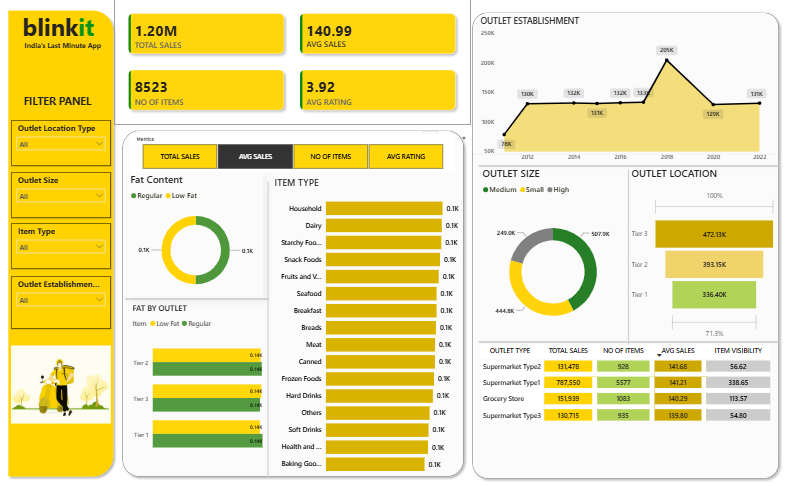

The page's visual inventory and layout, read from the dashboard file:
{"tool":"powerbi","page":{"name":"Page 1","canvas":[1600,995],"ordinal":0},"visuals":[{"type":"shape","box":[10.1,14.1,230.1,960.7],"z":0},{"type":"textbox","box":[0,17.9,240.3,91],"z":1000},{"type":"textbox","box":[0,79.1,258.2,57.5],"z":2000},{"type":"cardVisual","fields":{"Data":["BlinkIT Grocery Data.Total Sales","BlinkIT Grocery Data.Avg Sales","BlinkIT Grocery Data.No of Items","BlinkIT Grocery Data.Avg Rating"]},"box":[232.6,0,722,254.8],"z":3000},{"type":"shape","box":[240.2,256.3,708.4,718.5],"z":4000},{"type":"donutChart","title":"Fat Content","fields":{"Y":["BlinkIT Grocery Data.AVG SALES"],"Category":["BlinkIT Grocery Data.Item Fat Content"]},"box":[261.6,349.5,273.7,257.6],"z":5000},{"type":"slicer","fields":{"Values":["Metrics.Metrics"]},"box":[264.9,273,657.3,76.8],"z":6000},{"type":"clusteredBarChart","title":"FAT BY OUTLET","fields":{"Y":["BlinkIT Grocery Data.AVG SALES"],"Category":["BlinkIT Grocery Data.Outlet Location Type"],"Series":["BlinkIT Grocery Data.Item Fat Content"]},"box":[264.9,614.8,273,329.6],"z":7000},{"type":"shape","box":[948.5,289.2,637,48.5],"z":8000},{"type":"shape","box":[518.6,362.9,52.9,611.4],"z":9000},{"type":"barChart","title":"ITEM TYPE","fields":{"Y":["BlinkIT Grocery Data.AVG SALES"],"Category":["BlinkIT Grocery Data.Item Type"]},"box":[552.9,358.6,382.9,615.7],"z":10000},{"type":"shape","box":[948.3,18.4,637.9,960.9],"z":11000},{"type":"lineChart","title":"OUTLET ESTABLISHMENT","fields":{"Category":["BlinkIT Grocery Data.Outlet Establishment Year"],"Y":["BlinkIT Grocery Data.TOTAL SALES"]},"box":[968.7,32.4,588.5,305.4],"z":12000},{"type":"shape","box":[246.7,582.4,305.4,48.5],"z":13000},{"type":"shape","box":[962.6,313.5,622.9,48.5],"z":14000},{"type":"donutChart","title":"OUTLET SIZE","fields":{"Y":["BlinkIT Grocery Data.TOTAL SALES"],"Category":["BlinkIT Grocery Data.Outlet Size"]},"box":[972.8,337.7,295.3,370.1],"z":15000},{"type":"shape","box":[1245.8,337.7,54.6,370.1],"z":16000},{"type":"funnel","title":"OUTLET LOCATION","fields":{"Y":["Sum(BlinkIT Grocery Data.Sales)"],"Category":["BlinkIT Grocery Data.Outlet Location Type"]},"box":[1274.1,337.7,301.3,370.1],"z":17000},{"type":"shape","box":[962.6,669.4,317.5,48.5],"z":18000},{"type":"shape","box":[1266,669.4,319.5,48.5],"z":19000},{"type":"pivotTable","fields":{"Rows":["BlinkIT Grocery Data.Outlet Type"],"Values":["BlinkIT Grocery Data.TOTAL SALES","BlinkIT Grocery Data.NO OF ITEMS","BlinkIT Grocery Data.AVG SALES","Sum(BlinkIT Grocery Data.Item Visibility)"]},"box":[968.7,693.7,596.6,250.8],"z":20000},{"type":"slicer","fields":{"Values":["BlinkIT Grocery Data.Outlet Location Type"]},"box":[24.3,244.7,202.2,93],"z":21000},{"type":"slicer","fields":{"Values":["BlinkIT Grocery Data.Outlet Size"]},"box":[24.3,349.9,202.2,93],"z":22000},{"type":"slicer","fields":{"Values":["BlinkIT Grocery Data.Item Type"]},"box":[24.3,453,202.2,93],"z":23000},{"type":"textbox","box":[10.1,186.1,216.4,58.6],"z":24000},{"type":"image","box":[24.3,691.6,202.2,175.9],"z":25000},{"type":"slicer","fields":{"Values":["BlinkIT Grocery Data.Outlet Establishment Year"]},"box":[24.3,560.2,202.2,107.2],"z":25001}]}

Visuals, with their boxes in screenshot pixels (x1, y1, x2, y2), scaled from the page's 1600x995 canvas onto the 788x486 screenshot:
shape: box(5, 7, 118, 476)
textbox: box(0, 9, 118, 53)
textbox: box(0, 39, 127, 67)
cardVisual - BlinkIT Grocery Data.Total Sales x BlinkIT Grocery Data.Avg Sales: box(115, 0, 470, 124)
shape: box(118, 125, 467, 476)
"Fat Content" donutChart: box(129, 171, 264, 297)
slicer - Metrics.Metrics: box(130, 133, 454, 171)
"FAT BY OUTLET" clusteredBarChart: box(130, 300, 265, 461)
shape: box(467, 141, 781, 165)
shape: box(255, 177, 281, 476)
"ITEM TYPE" barChart: box(272, 175, 461, 476)
shape: box(467, 9, 781, 478)
"OUTLET ESTABLISHMENT" lineChart: box(477, 16, 767, 165)
shape: box(121, 284, 272, 308)
shape: box(474, 153, 781, 177)
"OUTLET SIZE" donutChart: box(479, 165, 625, 346)
shape: box(614, 165, 640, 346)
"OUTLET LOCATION" funnel: box(627, 165, 776, 346)
shape: box(474, 327, 630, 351)
shape: box(624, 327, 781, 351)
pivotTable - BlinkIT Grocery Data.Outlet Type x BlinkIT Grocery Data.TOTAL SALES: box(477, 339, 771, 461)
slicer - BlinkIT Grocery Data.Outlet Location Type: box(12, 120, 112, 165)
slicer - BlinkIT Grocery Data.Outlet Size: box(12, 171, 112, 216)
slicer - BlinkIT Grocery Data.Item Type: box(12, 221, 112, 267)
textbox: box(5, 91, 112, 120)
image: box(12, 338, 112, 424)
slicer - BlinkIT Grocery Data.Outlet Establishment Year: box(12, 274, 112, 326)
